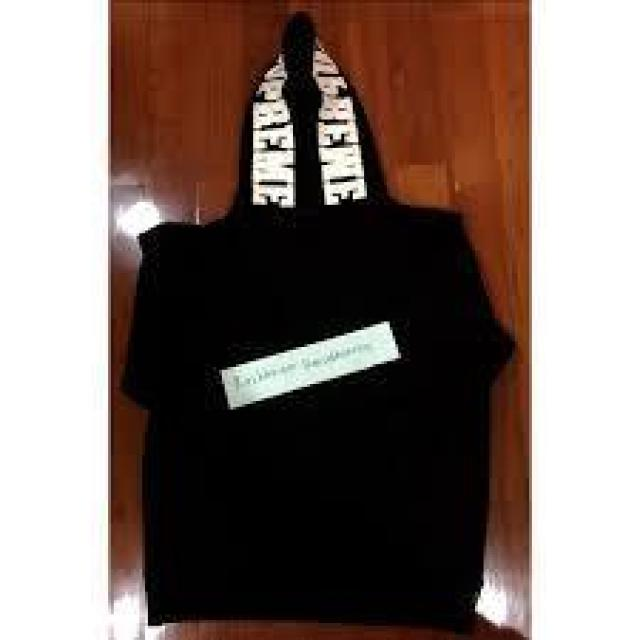sweater: (141, 28, 482, 618)
